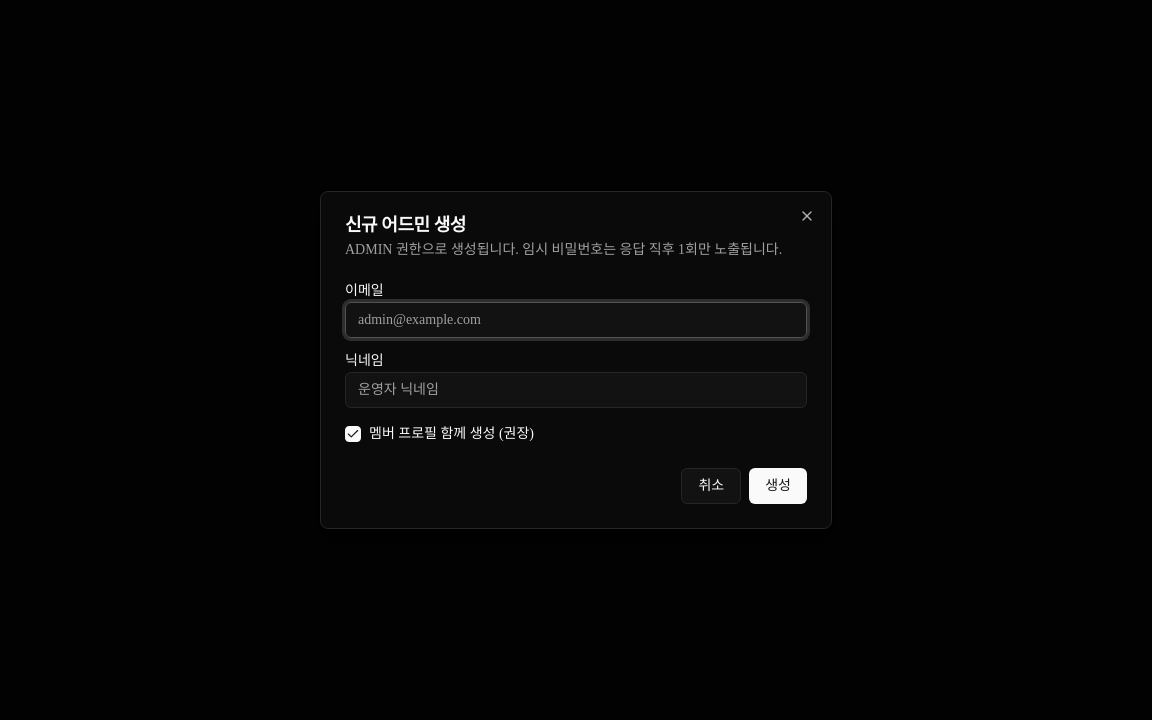
Scenario: CreateAdministratorDialog › 정상 입력 → tempPassword 노출 단계 진입
In the field labelled "이메일": (576, 320) [345,302,807,338], type "newadmin@pfplay.local"
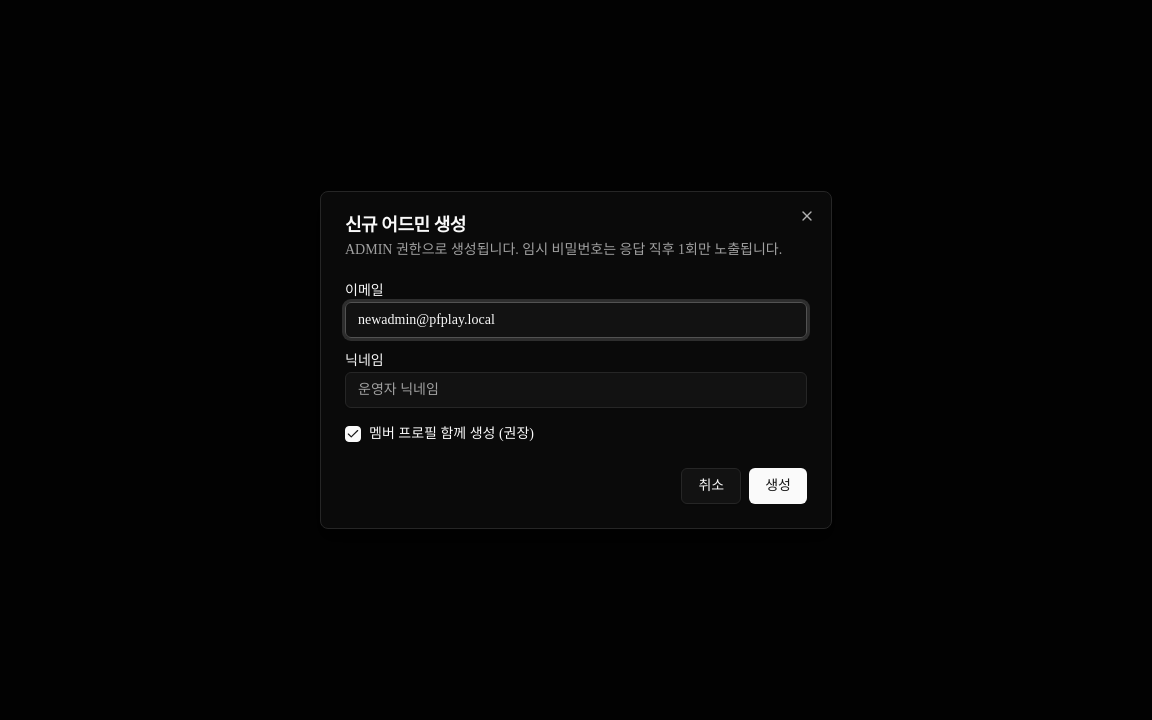
In the field labelled "닉네임": (576, 390) [345,372,807,408], type "신규운영자"
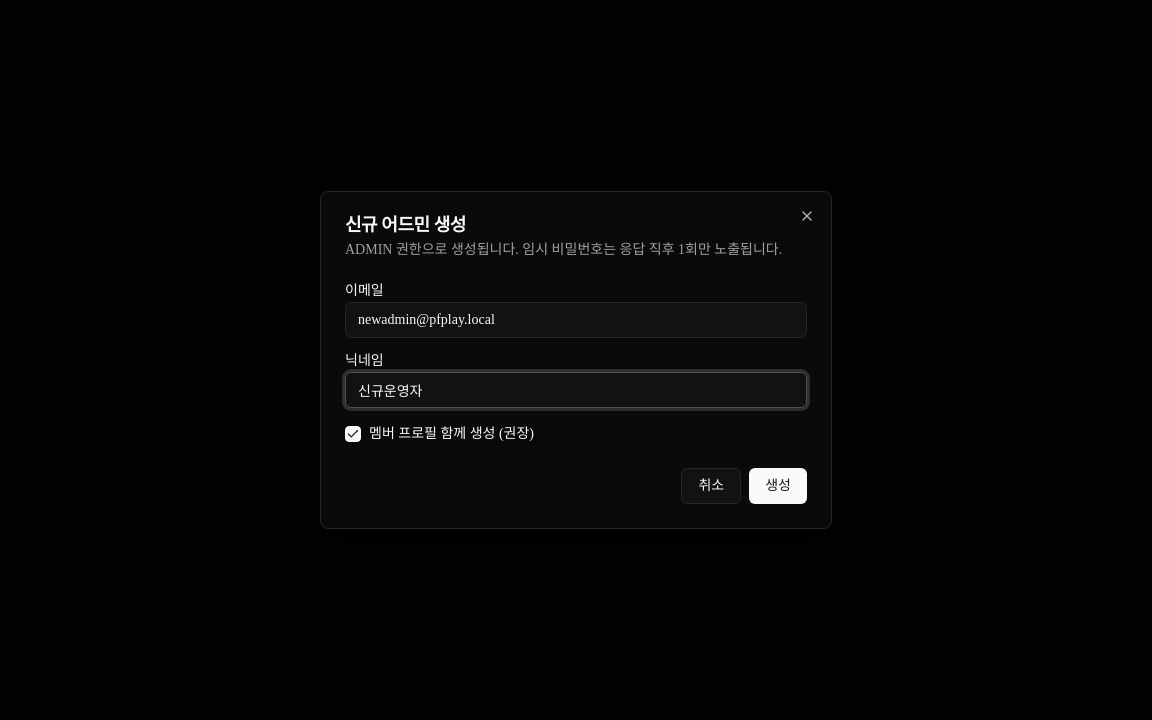
Click the button "생성": (778, 486) [749,468,807,504]
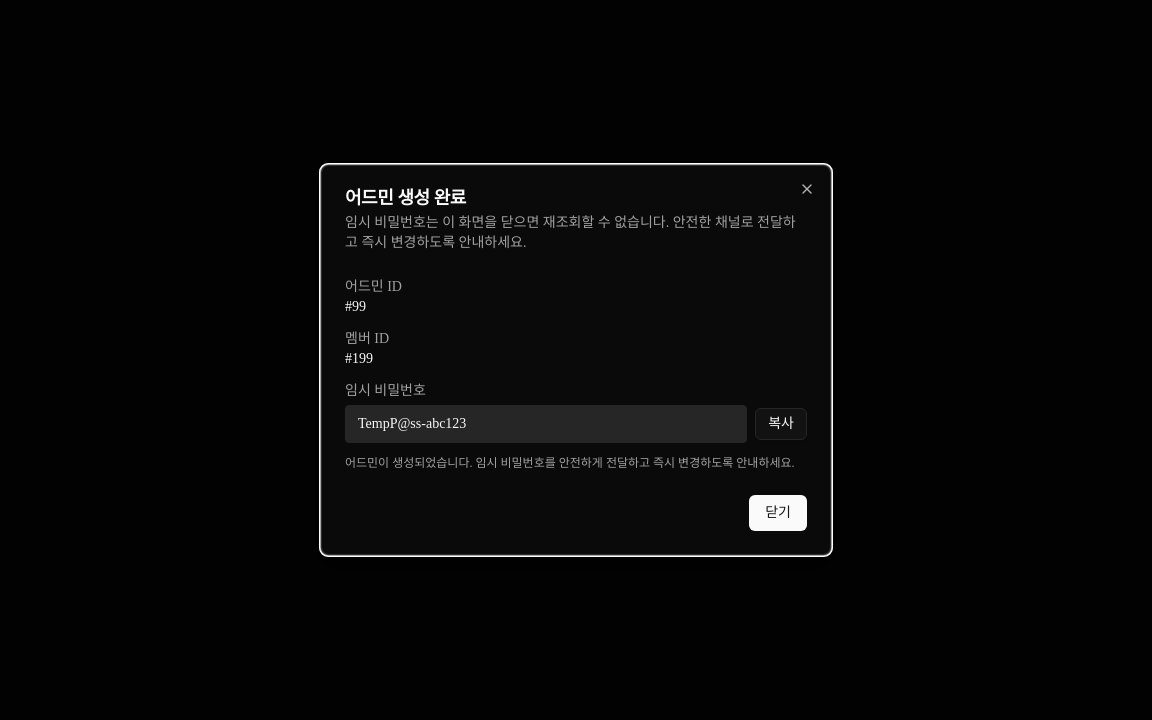
expect the heading "어드민 생성 완료" is shown: met, box [345,188,466,208]
expect the text "#99" is shown: met, box [345,299,366,314]
expect the text "TempP@ss-abc123" is shown: met, box [345,405,747,443]
